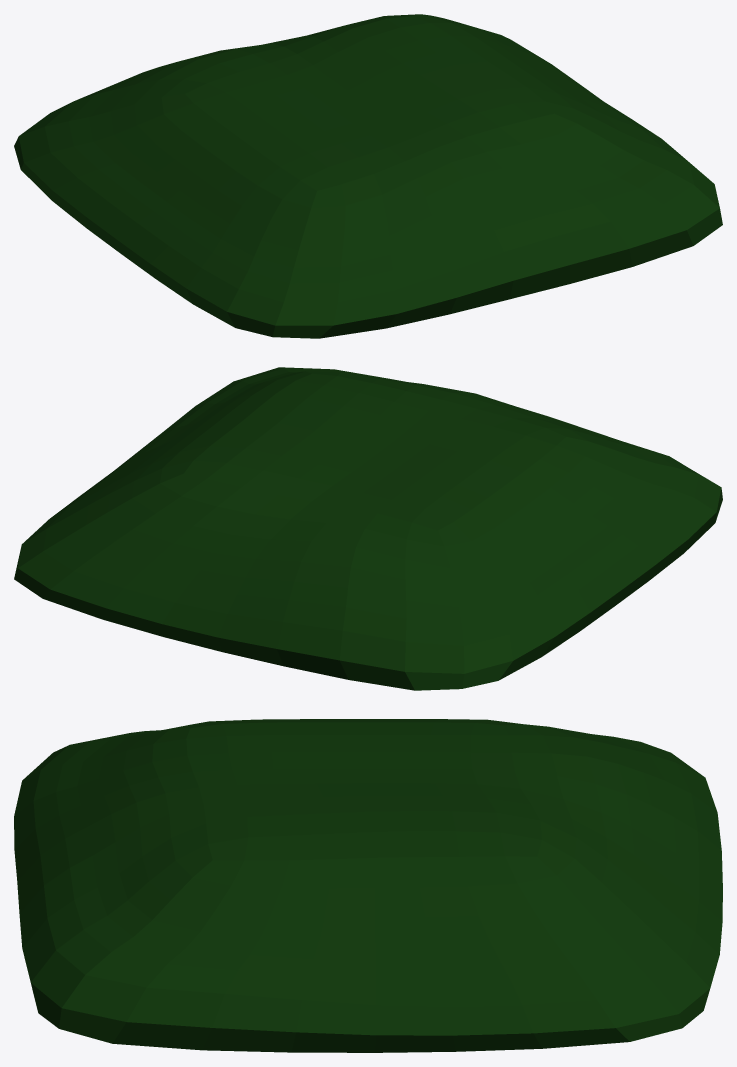
The model's file is WW2_Plain.fbx.
The picture shows the model from 3 angles, top to bottom: view 1: azimuth 30°, elevation 25°; view 2: azimuth 150°, elevation 25°; view 3: azimuth 270°, elevation 25°; orthographic projection. The views are drawn at different scales.
Visible parts, largest first — view 1: Cube; view 2: Cube; view 3: Cube.
Boxes of the visible parts, <box> form: Cube: <box>14,14,722,338</box>; Cube: <box>14,367,722,690</box>; Cube: <box>14,719,722,1052</box>.
Size of the model in its own units: 838 by 210 by 846.
